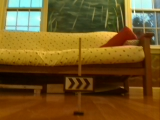right: (64, 76, 94, 91)
